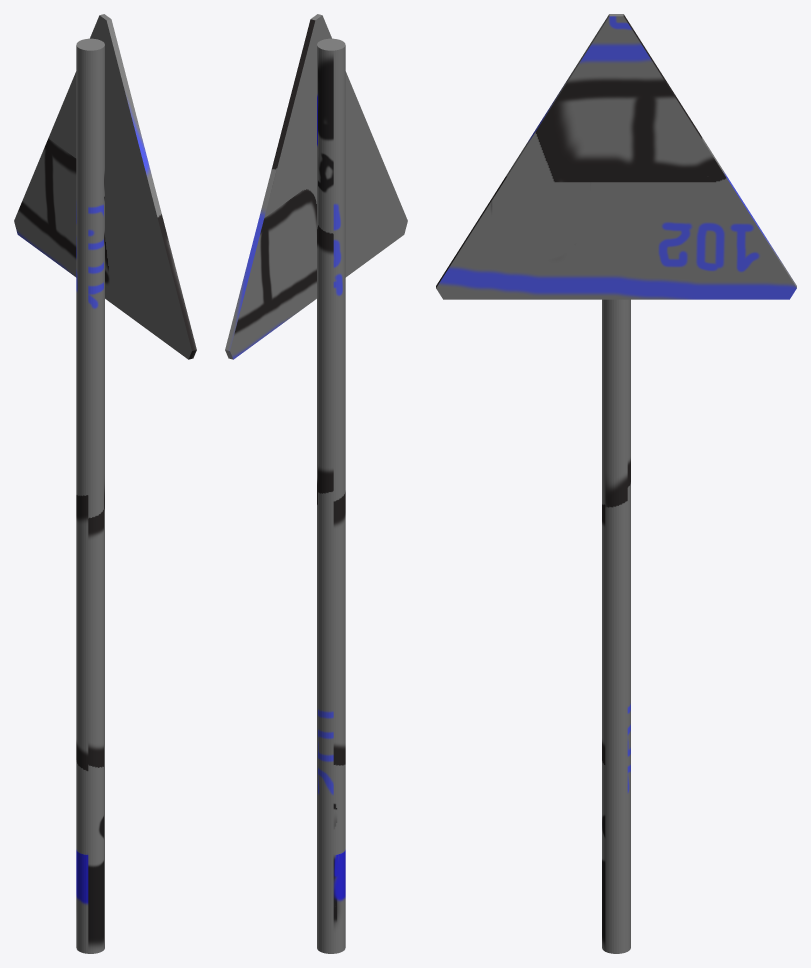
The model's file is Shield.obj.
3 renders of one model, left to right at view 1: azimuth 30°, elevation 25°; view 2: azimuth 150°, elevation 25°; view 3: azimuth 270°, elevation 25°, orthographic.
Parts seen in each view (by area): view 1: Shield; view 2: Shield; view 3: Shield.
Part boxes in pixels (left/top/right/bottom): Shield: left=14, top=14, right=196, bottom=953; Shield: left=225, top=14, right=407, bottom=953; Shield: left=436, top=14, right=796, bottom=953.
Size of the model in its own units: 1.2 by 35.93 by 12.5.
